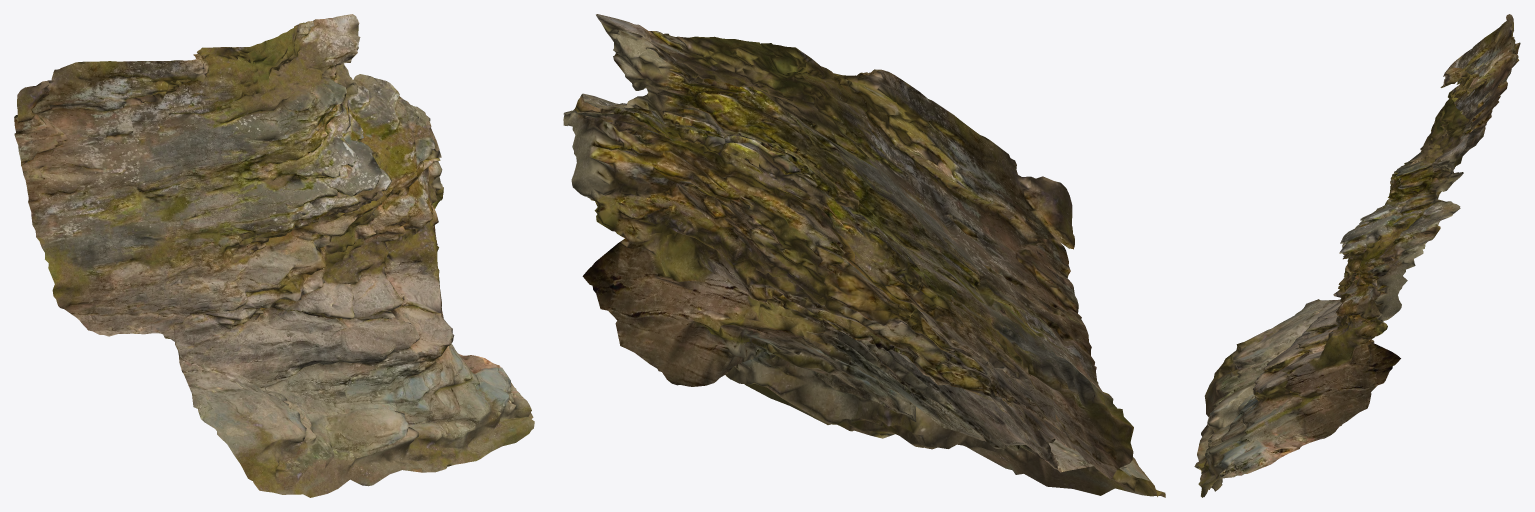
File: rock_face_02.glb
3 renders of one model, left to right at view 1: azimuth 30°, elevation 25°; view 2: azimuth 150°, elevation 25°; view 3: azimuth 270°, elevation 25°, orthographic. The views are drawn at different scales.
Visible parts, largest first — view 1: rock_face_02; view 2: rock_face_02; view 3: rock_face_02.
Boxes of the visible parts, box(x1,y1,x2,y2) form: rock_face_02: box(14, 14, 534, 497); rock_face_02: box(563, 14, 1165, 497); rock_face_02: box(1194, 14, 1520, 497).
Size of the model in its own units: 2.71 by 2.47 by 2.13.
1 material, 1 textured.
